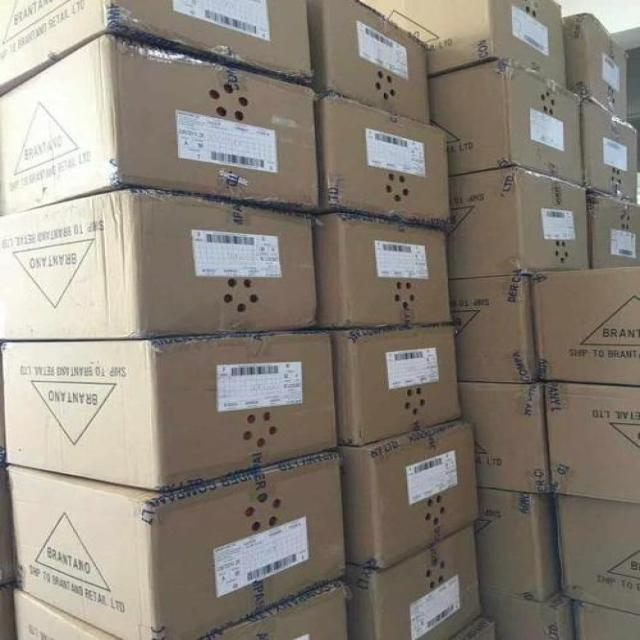box: (5, 451, 346, 639), (1, 32, 320, 215), (0, 331, 336, 491), (0, 187, 317, 339), (0, 0, 312, 96), (325, 419, 479, 569), (429, 56, 585, 186), (308, 91, 453, 227), (310, 323, 462, 446), (359, 0, 567, 88), (307, 212, 450, 330), (340, 521, 481, 639), (448, 166, 589, 279), (307, 0, 430, 124), (531, 265, 638, 386), (543, 381, 639, 503), (553, 493, 639, 615), (460, 380, 551, 493), (449, 274, 540, 382), (475, 487, 559, 600), (193, 578, 348, 639), (562, 14, 629, 122), (582, 95, 637, 203), (14, 589, 120, 639), (480, 587, 574, 638), (588, 186, 639, 268), (573, 598, 638, 639)
